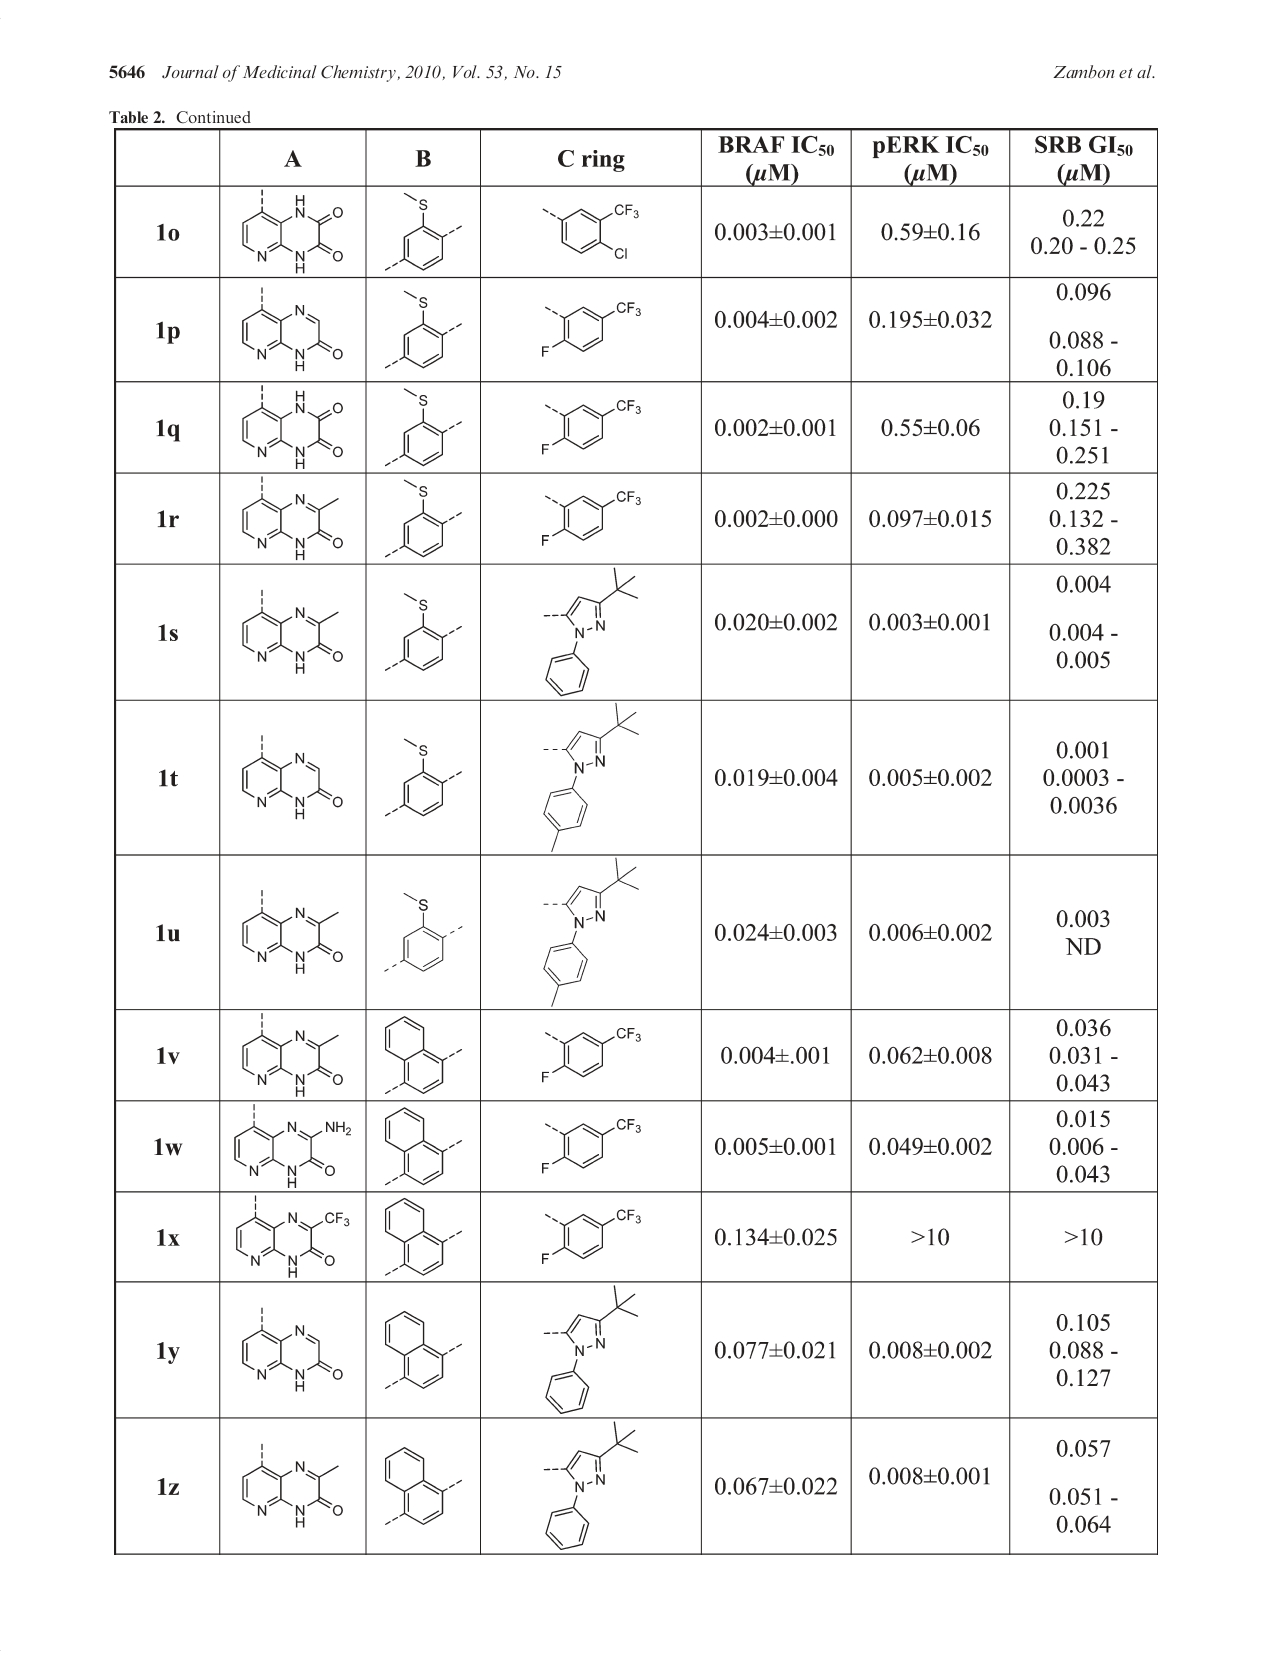exist_molecular: (541, 702, 638, 852), (543, 859, 640, 1008), (540, 1285, 640, 1414), (543, 567, 640, 696), (543, 1422, 638, 1551), (231, 1102, 352, 1188), (234, 1196, 351, 1279), (241, 734, 344, 823), (239, 1012, 346, 1098), (239, 1442, 346, 1528), (239, 383, 347, 468), (241, 1305, 344, 1392), (239, 589, 344, 676), (241, 286, 344, 372), (239, 888, 343, 975), (242, 190, 344, 273), (382, 477, 464, 560), (382, 892, 465, 973), (383, 738, 465, 819), (384, 1015, 465, 1097), (382, 1310, 464, 1391), (382, 192, 465, 271), (383, 387, 463, 468), (382, 1446, 463, 1525), (384, 1106, 464, 1186), (383, 289, 461, 368), (539, 488, 642, 548), (383, 1198, 463, 1275), (386, 592, 461, 672), (540, 301, 642, 359), (541, 400, 645, 457), (540, 1025, 641, 1084), (539, 1117, 640, 1176), (539, 203, 641, 261), (541, 1208, 641, 1266)
